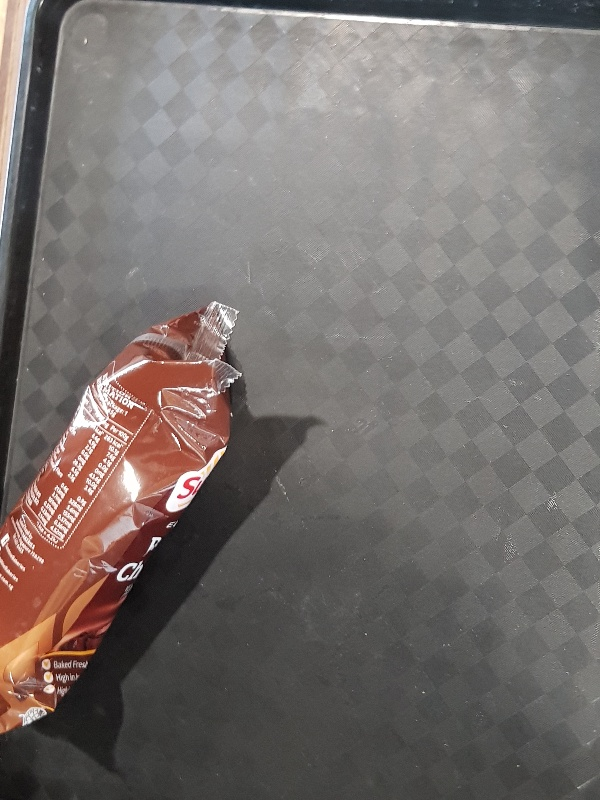Sunshine Belgium Chocolate Wholemeal Cream Bun: (2, 297, 245, 736)
